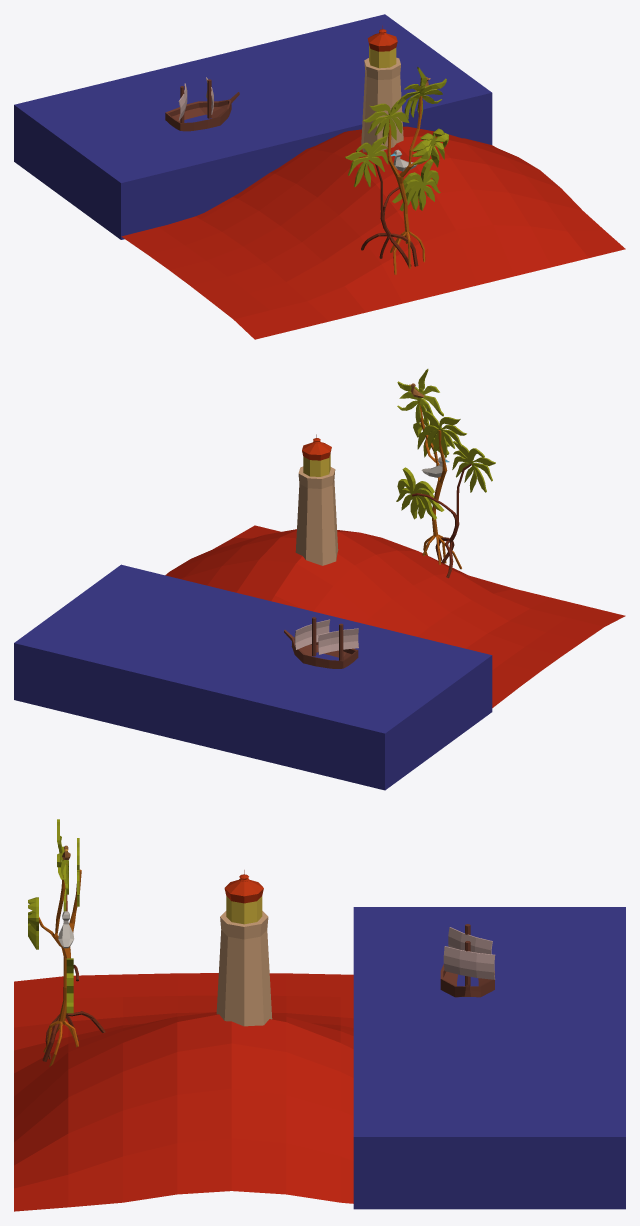
The picture shows the model from 3 angles, top to bottom: view 1: azimuth 30°, elevation 25°; view 2: azimuth 150°, elevation 25°; view 3: azimuth 270°, elevation 25°; orthographic projection. The views are drawn at different scales.
Visible parts, largest first — view 1: Island, Water, LightHouse, Cube, TreeLite, Leaves1, Leaves5, Leaves4, Leaves3, TreeDark, Leaves2; view 2: Water, Island, LightHouse, Leaves1, Leaves5, Leaves4, TreeLite, Cube, Leaves3, Cube.001, TreeDark; view 3: Water, Island, LightHouse, TreeLite, Cube.002, Cube, Cube.001, TreeDark.
Boxes of the visible parts, x1,y1,x2,y2 form: Island: (121, 126, 625, 339); Water: (14, 14, 492, 239); LightHouse: (361, 25, 403, 152); Cube: (165, 92, 239, 131); TreeLite: (387, 96, 435, 274); Leaves1: (392, 159, 440, 211); Leaves5: (345, 135, 388, 186); Leaves4: (363, 99, 409, 144); Leaves3: (394, 67, 446, 119); TreeDark: (361, 164, 418, 266); Leaves2: (412, 128, 448, 167); Water: (14, 564, 492, 790); Island: (165, 525, 625, 707); LightHouse: (295, 434, 338, 565); Leaves1: (396, 467, 444, 519); Leaves5: (452, 441, 495, 492); Leaves4: (421, 411, 466, 457); TreeLite: (418, 401, 461, 569); Cube: (284, 630, 358, 668); Leaves3: (397, 369, 443, 425); Cube.001: (318, 628, 358, 654); TreeDark: (412, 464, 471, 578); Water: (353, 907, 625, 1209); Island: (14, 973, 353, 1211); LightHouse: (216, 870, 272, 1026); TreeLite: (39, 863, 81, 1066); Cube.002: (443, 946, 495, 979); Cube: (440, 964, 494, 997); Cube.001: (448, 927, 492, 954); TreeDark: (42, 894, 105, 1061).
Size of the model in its own units: 20 by 11.11 by 22.49.
